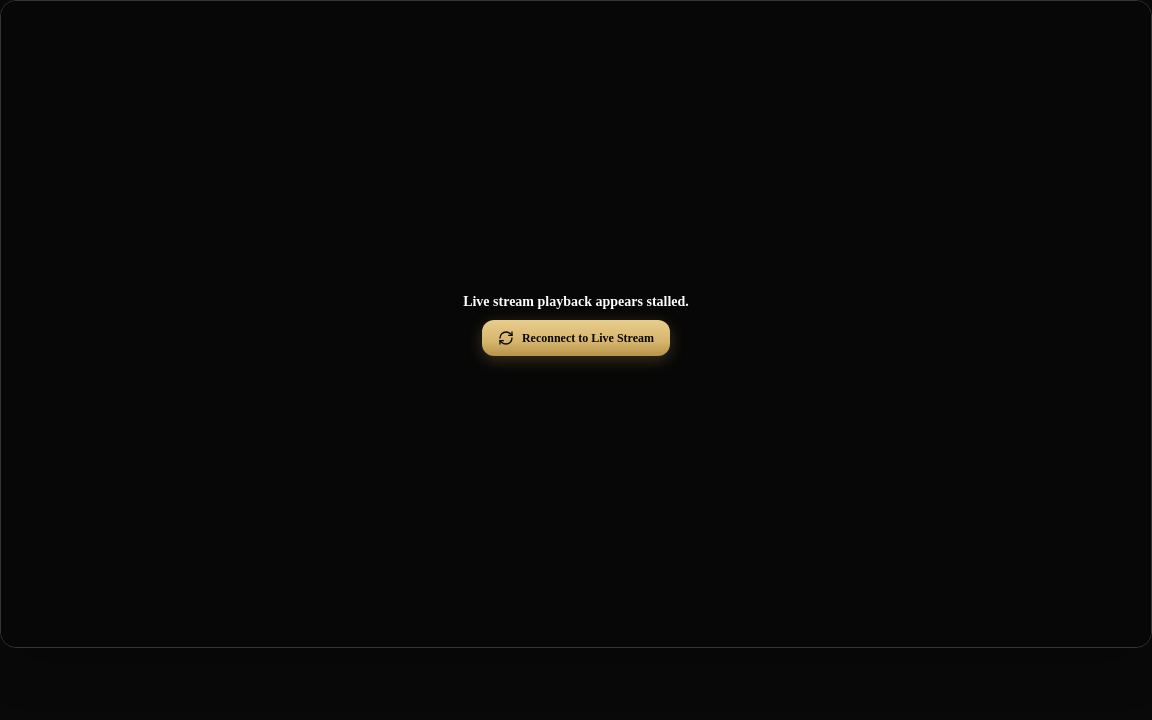
VideoPlayer Phase 16.4.6 Sampling, Readiness & Reconnect Hardening › restores reconnect button with error on silent timeout, and clears timeout on recovery, video change, or unmount
The width and height of the screenshot is (1152, 720).
Later steps or results of the test are not shown.
Click the button with test id "manual-reconnect-btn" at coordinates (576, 338), box [482,320,670,356]
Click the button with test id "manual-reconnect-btn" at coordinates (576, 338), box [482,320,670,356]
Wait 12500 ms
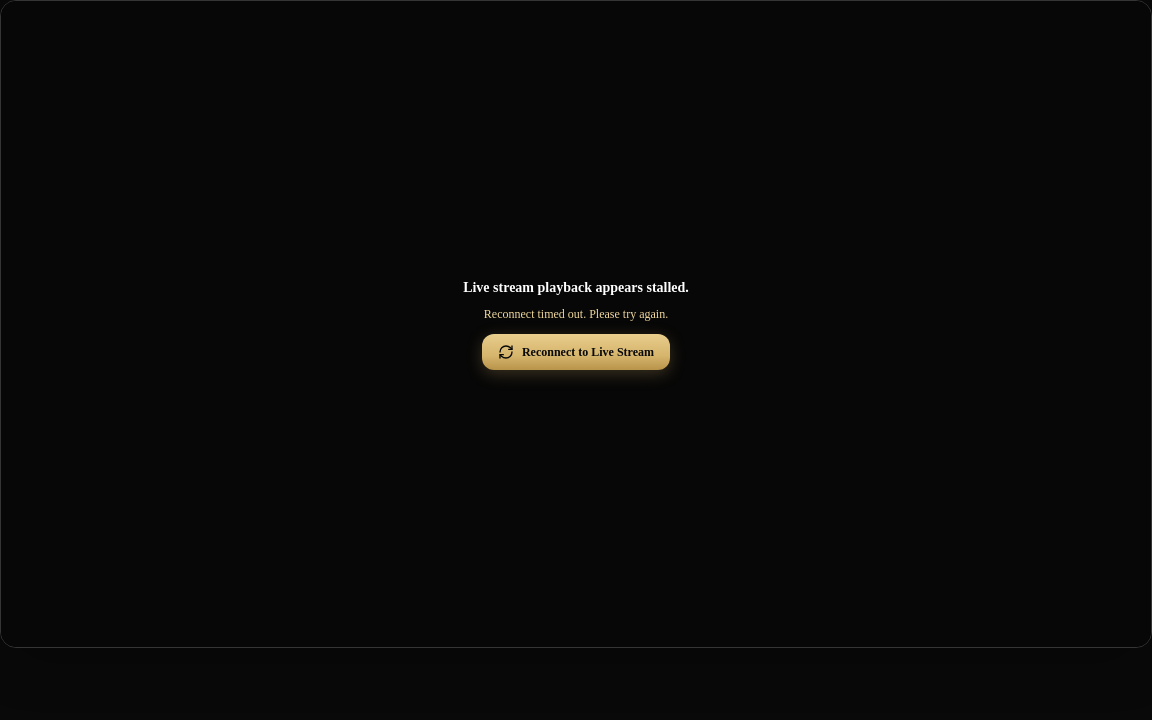
Expected: the text with test id "reconnect-error" shows "Reconnect timed out", [484,307,668,321]
Click the button with test id "manual-reconnect-btn" at coordinates (576, 352), box [482,334,670,370]
Wait 15000 ms
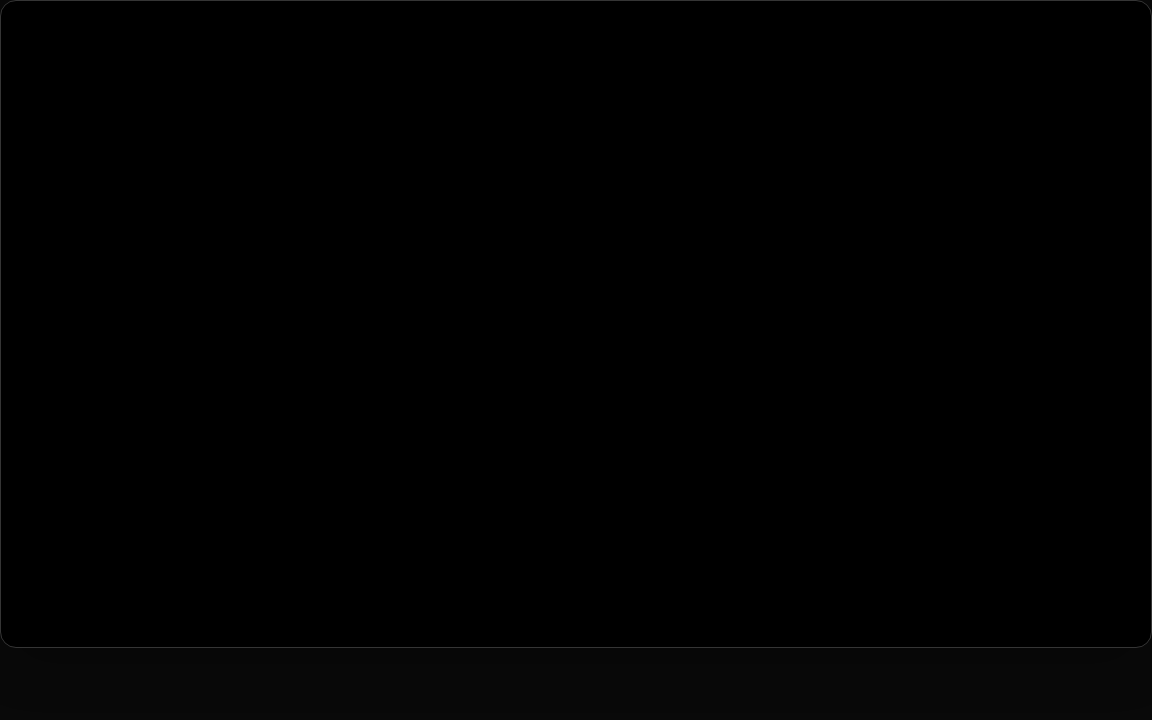
Expected: the button with test id "manual-reconnect-btn" is gone
Expected: the text with test id "reconnect-error" is gone
